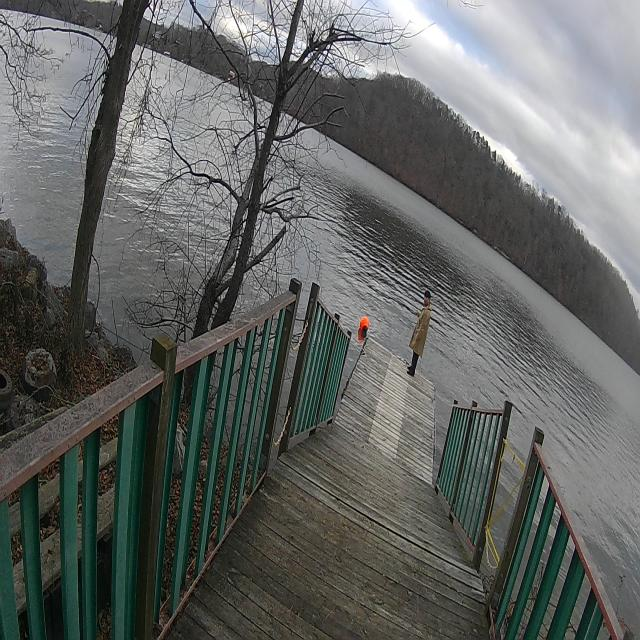Buoy: (357, 313, 369, 342)
